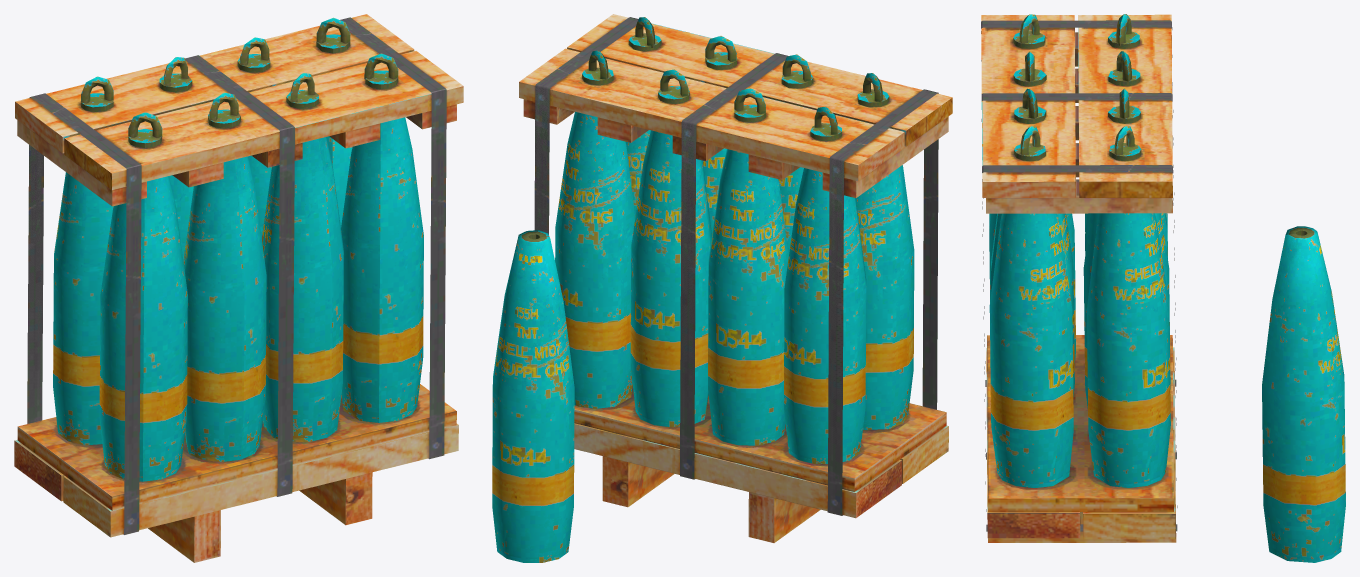
The model's file is BlueBase.FBX.
3 views of the same model, side by side, from view 1: azimuth 30°, elevation 25°; view 2: azimuth 150°, elevation 25°; view 3: azimuth 270°, elevation 25° (orthographic). The views are drawn at different scales.
Parts seen in each view (by area): view 1: BlueBase; view 2: BlueBase; view 3: BlueBase.
Part boxes in pixels (box(x1,y1,x2,y2)): BlueBase: box(14, 14, 463, 562); BlueBase: box(492, 14, 952, 562); BlueBase: box(981, 14, 1345, 562).
Size of the model in its own units: 6.71 by 8.07 by 6.15.
